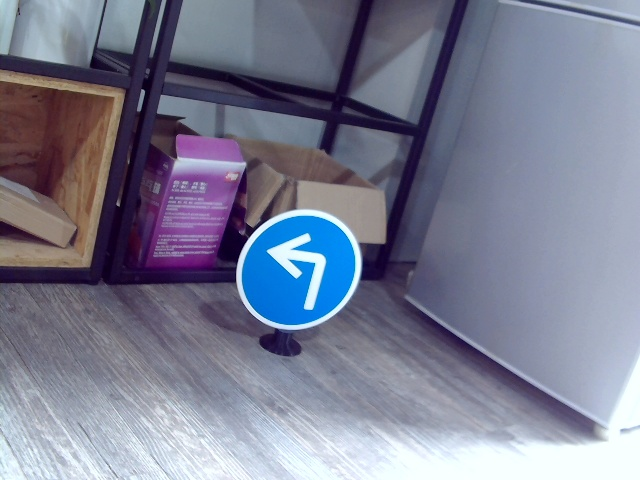turn_left: (269, 232, 328, 309)
